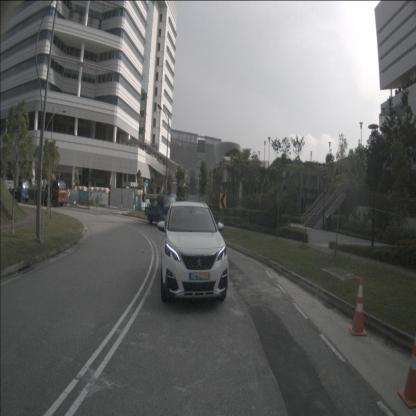movable_object-trafficcone: (398, 334, 416, 410), (349, 277, 367, 336)
vehicle-car: (160, 202, 229, 304)
vehicle-truck: (27, 179, 67, 207), (144, 195, 179, 224), (9, 179, 31, 203)
